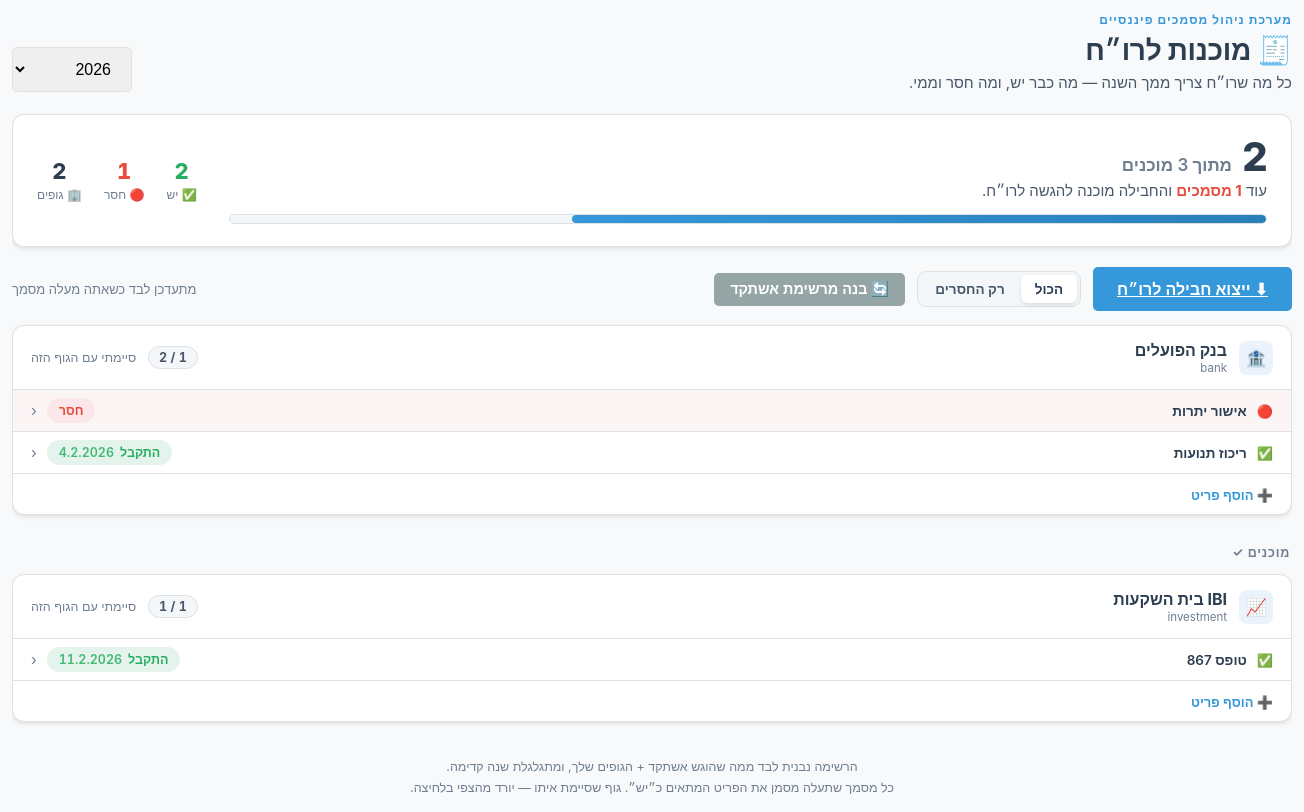
Test: ReadinessPage › לחיצה על "בנה מרשימת אשתקד" קוראת ל-carry-forward
Click the button "🔄 בנה מרשימת אשתקד". click: (810, 289)
box: left=714, top=272, right=905, bottom=306
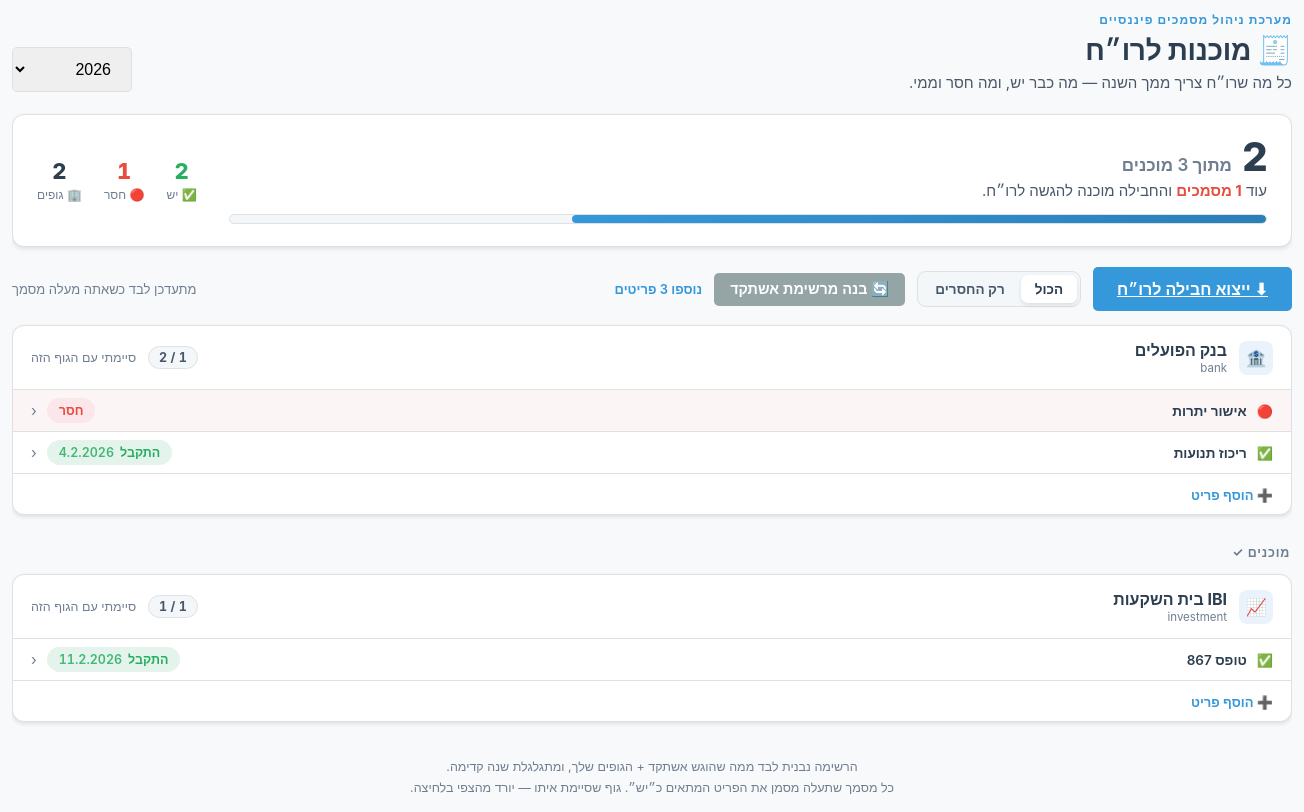
Result: the text "נוספו 3 פריטים" is shown at left=614, top=281, right=702, bottom=297
